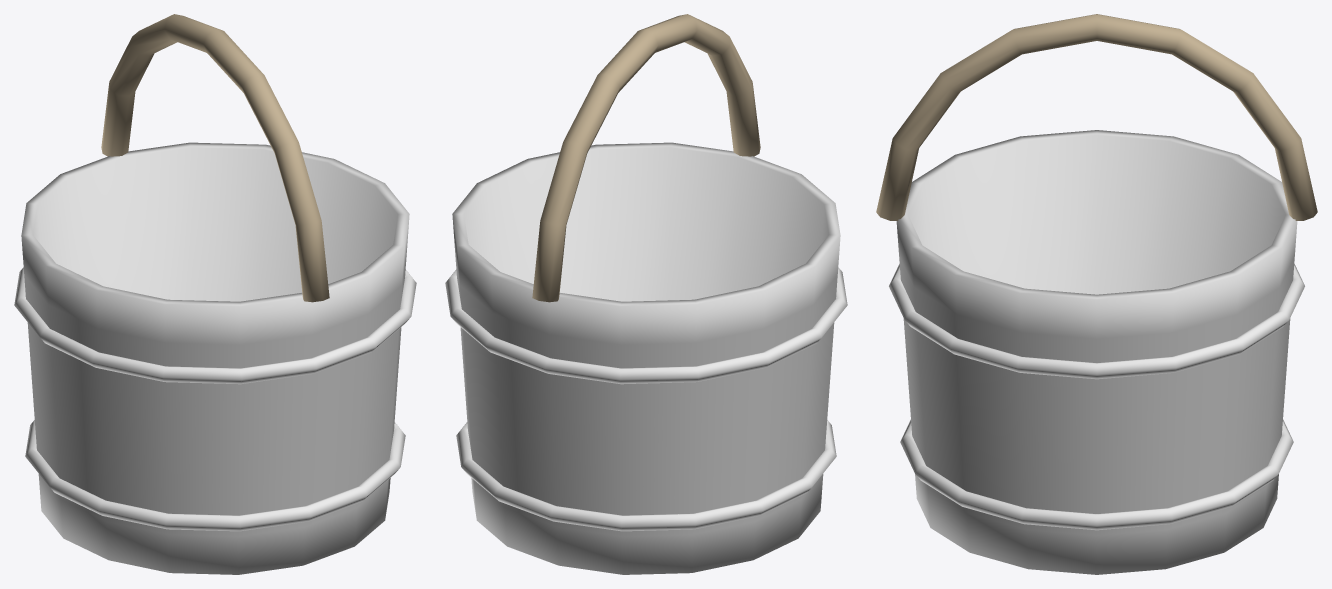
Rendered from bucket.fbx.
The picture shows the model from 3 angles, left to right: view 1: azimuth 30°, elevation 25°; view 2: azimuth 150°, elevation 25°; view 3: azimuth 270°, elevation 25°; orthographic projection. The views are drawn at different scales.
Visible parts, largest first — view 1: Bucket; view 2: Bucket; view 3: Bucket.
Part boxes in pixels (bbox=[...]): Bucket: bbox=[14, 14, 416, 574]; Bucket: bbox=[445, 14, 847, 574]; Bucket: bbox=[876, 14, 1317, 574].
Bounding box in the file's own units: 23.26 × 32.35 × 24.67.
